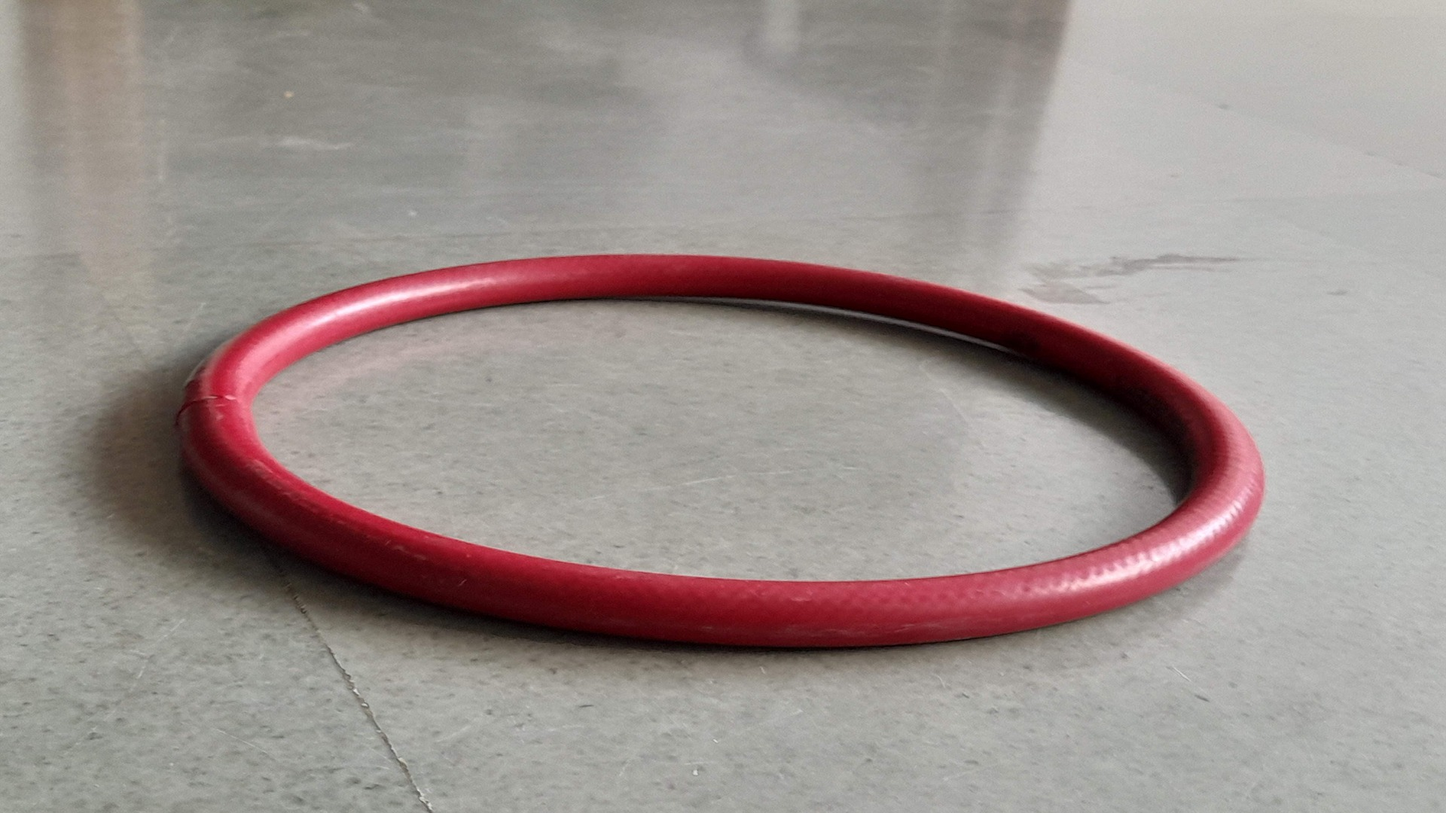Red ring: (175, 252, 1263, 644)
